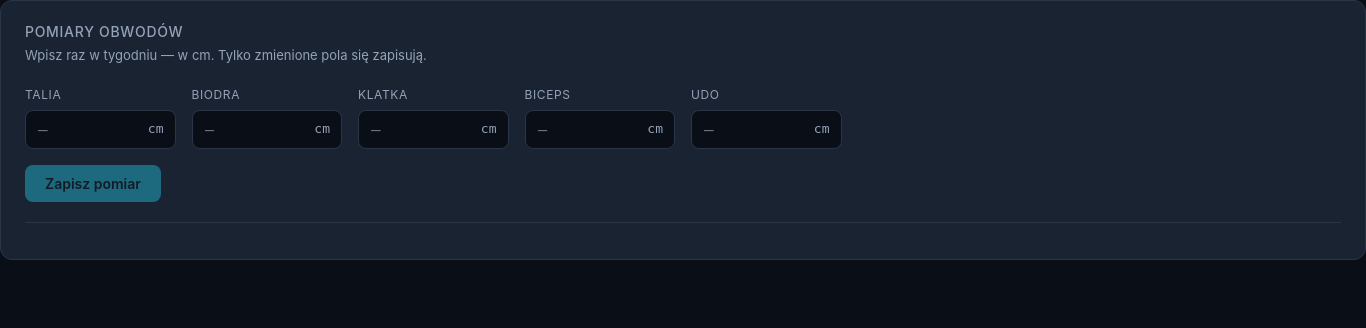
BodyMeasurementsCard › network error (-1) → "Brak połączenia" banner
Type "85" into the number field labelled "Talia" at (100, 129), box [25,110,176,148]
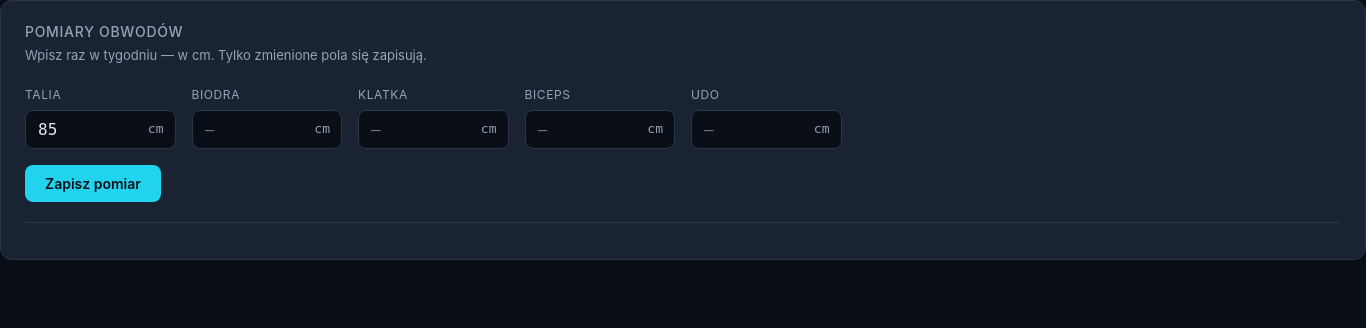
Click the button "Zapisz pomiar" at (93, 183), box [25,164,161,202]
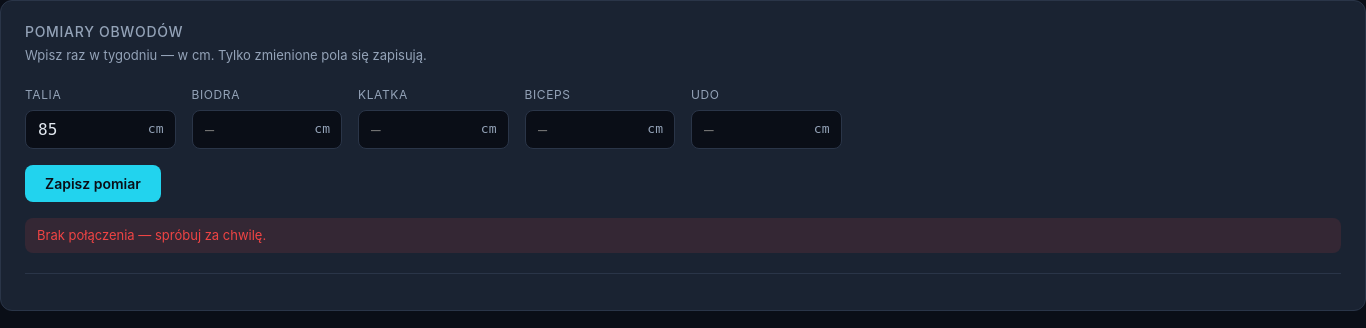
Expected: the message shows "Brak połączenia", [37,226,266,242]
